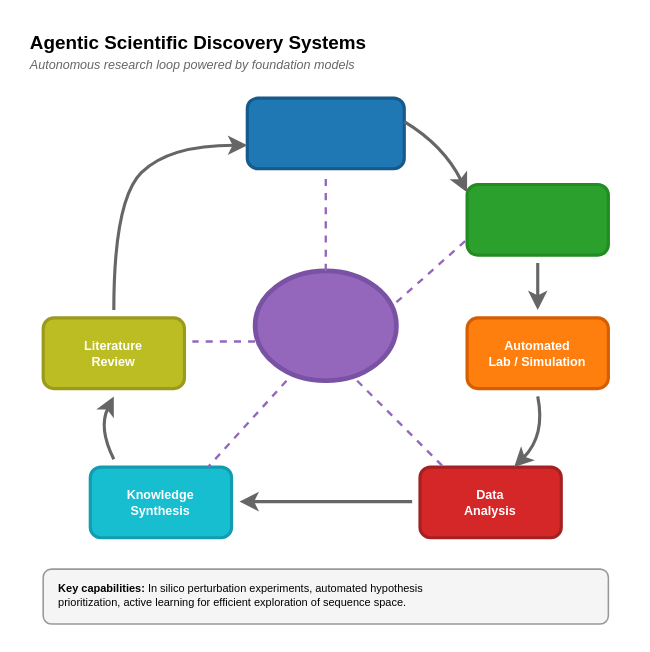
Some shapes in this 650 by 652 pixel diagram are drawn without their labels. Each missing label, with the box of its shape:
Experiment Design: (465, 182, 609, 256)
Genomic Foundation Model: (252, 268, 398, 382)
Hypothesis Generation: (245, 96, 405, 170)
